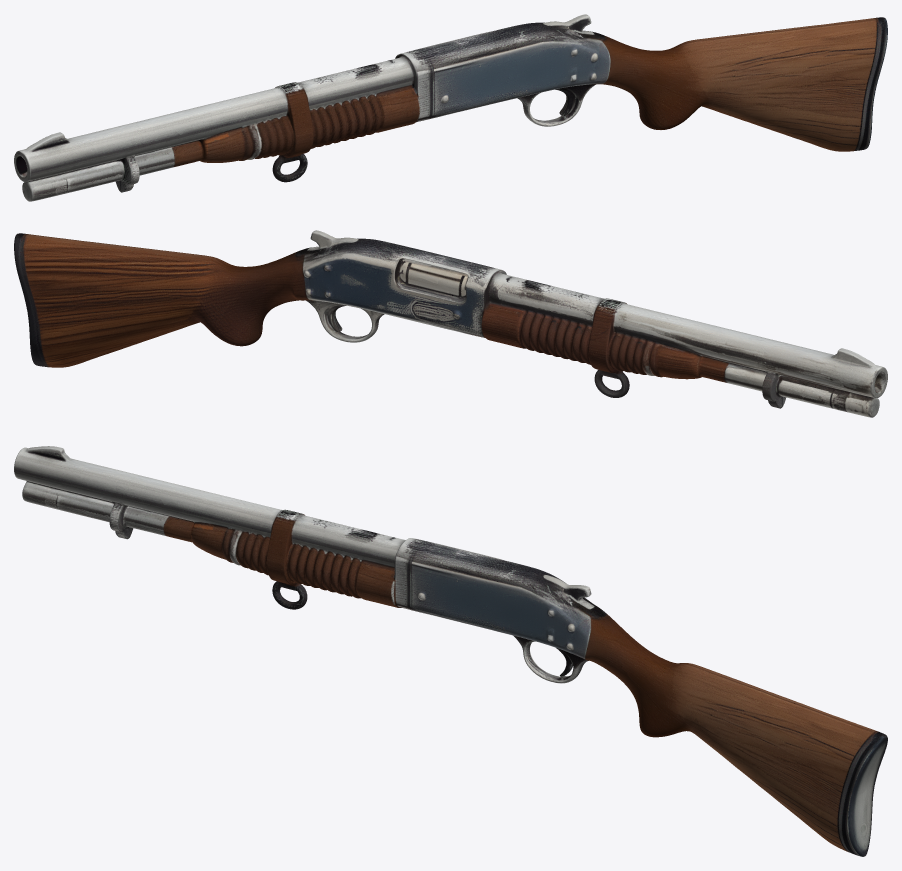
File: Shotgun.glb
3 renders of one model, top to bottom at view 1: azimuth 30°, elevation 25°; view 2: azimuth 150°, elevation 25°; view 3: azimuth 330°, elevation 25°, orthographic.
Size of the model in its own units: 1.9 by 0.4445 by 0.1129.
1 material, 1 textured.
